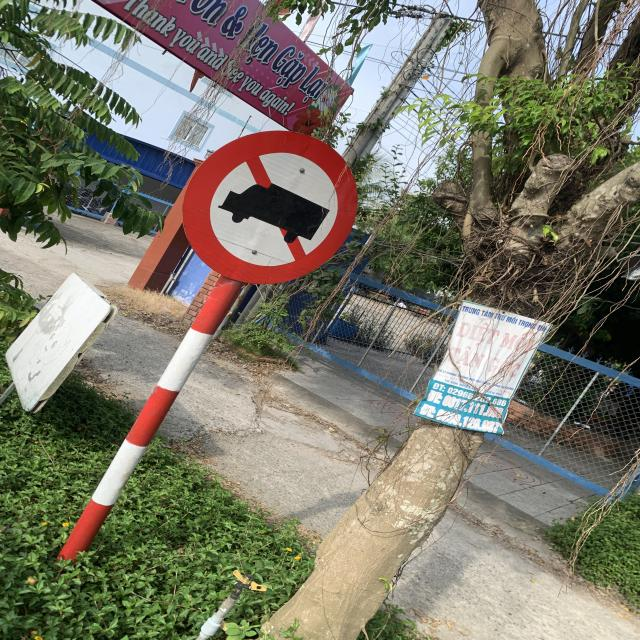Cam_Xe_Tai: (175, 125, 360, 287)
